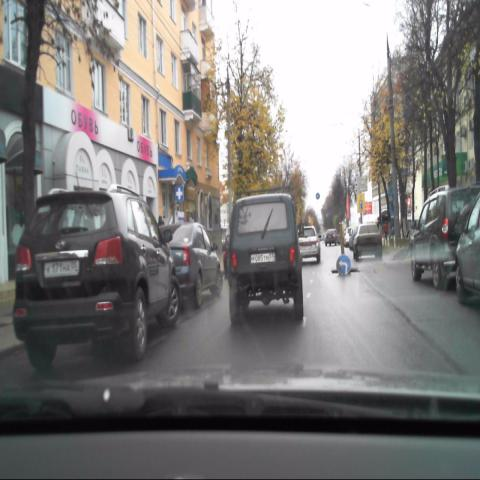4_1_3: (336, 254, 350, 277)
